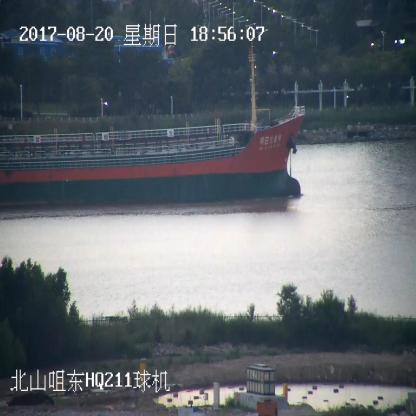Bulk Carrier: (0, 49, 306, 201)
